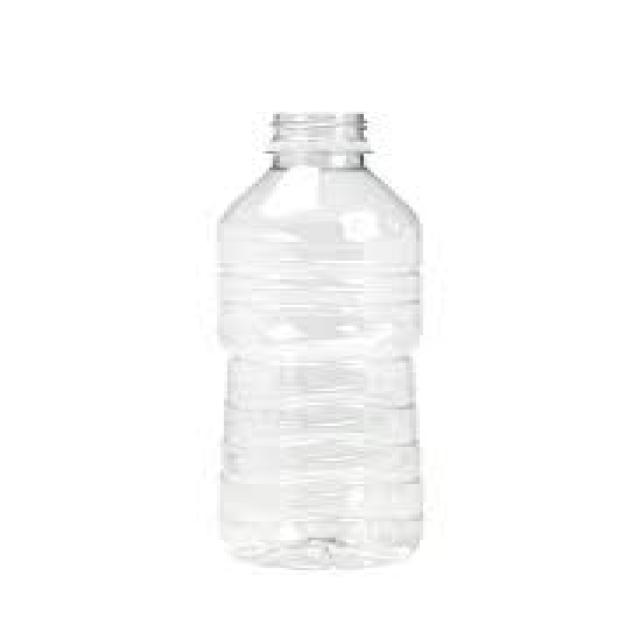plastic cup: (218, 113, 421, 567)
